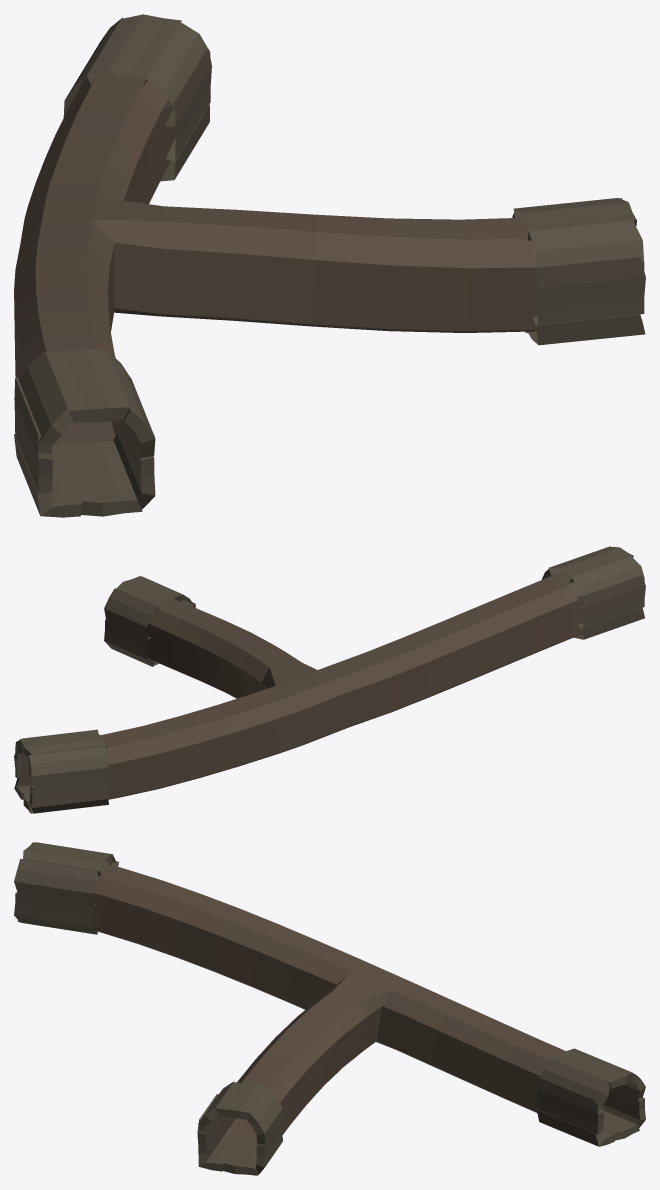
Rendered from Tonnel.fbx.
3 views of the same model, one above another, from view 1: azimuth 30°, elevation 25°; view 2: azimuth 150°, elevation 25°; view 3: azimuth 270°, elevation 25° (orthographic). The views are drawn at different scales.
Parts seen in each view (by area): view 1: Cube.008, Cube.017, Cube.011, Cube.016; view 2: Cube.008, Cube.016, Cube.017, Cube.011; view 3: Cube.008, Cube.016, Cube.017, Cube.011.
Part boxes in pixels (x1=…): Cube.008: x1=14, y1=72, x2=537, y2=445; Cube.017: x1=14, y1=349, x2=155, y2=517; Cube.011: x1=512, y1=198, x2=645, y2=345; Cube.016: x1=63, y1=14, x2=211, y2=181; Cube.008: x1=21, y1=572, x2=584, y2=799; Cube.016: x1=14, y1=729, x2=110, y2=813; Cube.017: x1=541, y1=546, x2=645, y2=639; Cube.011: x1=104, y1=576, x2=195, y2=666; Cube.008: x1=92, y1=864, x2=610, y2=1153; Cube.016: x1=537, y1=1048, x2=645, y2=1146; Cube.017: x1=14, y1=842, x2=118, y2=934; Cube.011: x1=197, y1=1081, x2=283, y2=1175.
Size of the model in its own units: 2367 by 644 by 2849.
